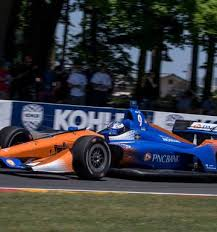FormulaOneCar: (1, 98, 217, 190)
